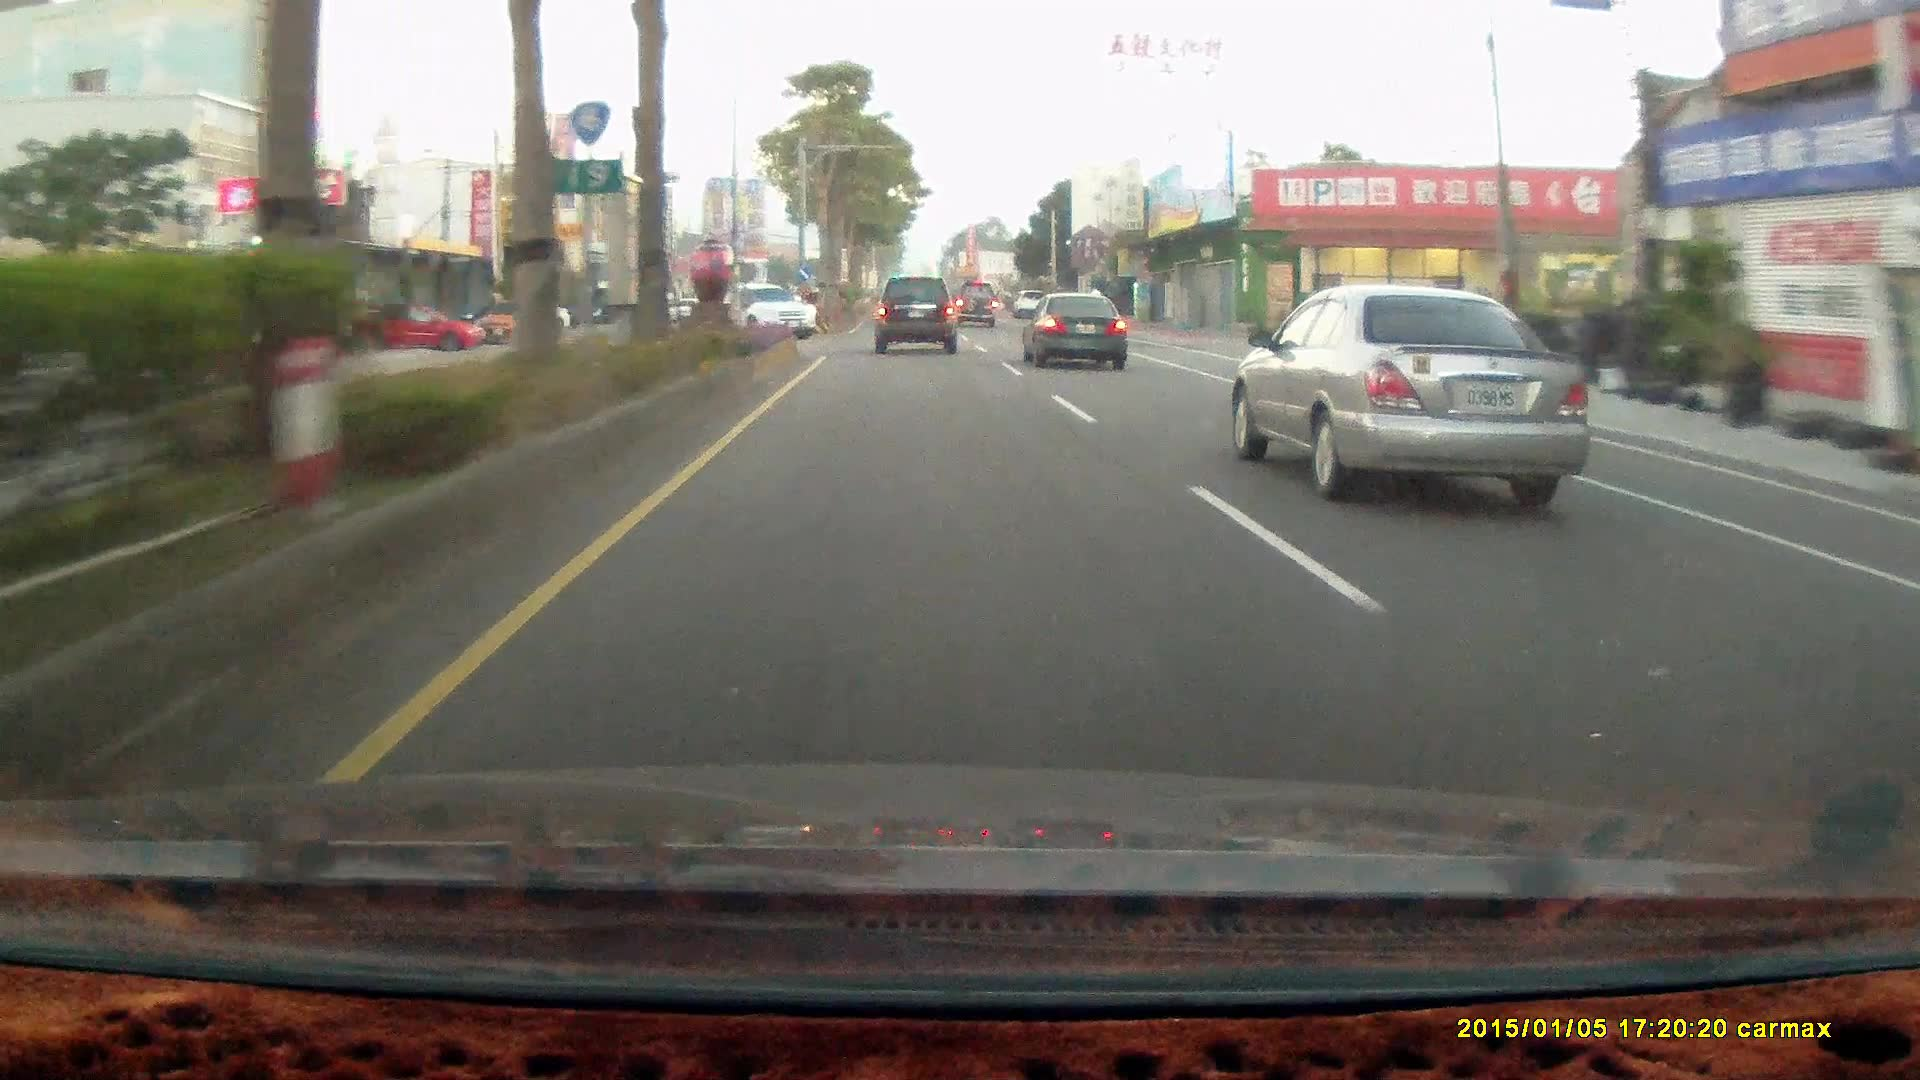vehicle: (1238, 284, 1586, 502), (1019, 291, 1131, 376), (1019, 291, 1126, 369), (344, 303, 491, 355), (876, 274, 963, 359), (345, 302, 481, 353), (872, 277, 953, 355), (729, 280, 818, 342), (738, 284, 818, 343), (951, 282, 1000, 332), (949, 282, 998, 331)
